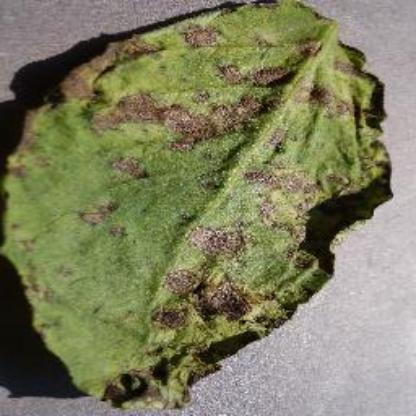Early-Blight: (2, 2, 394, 410)
